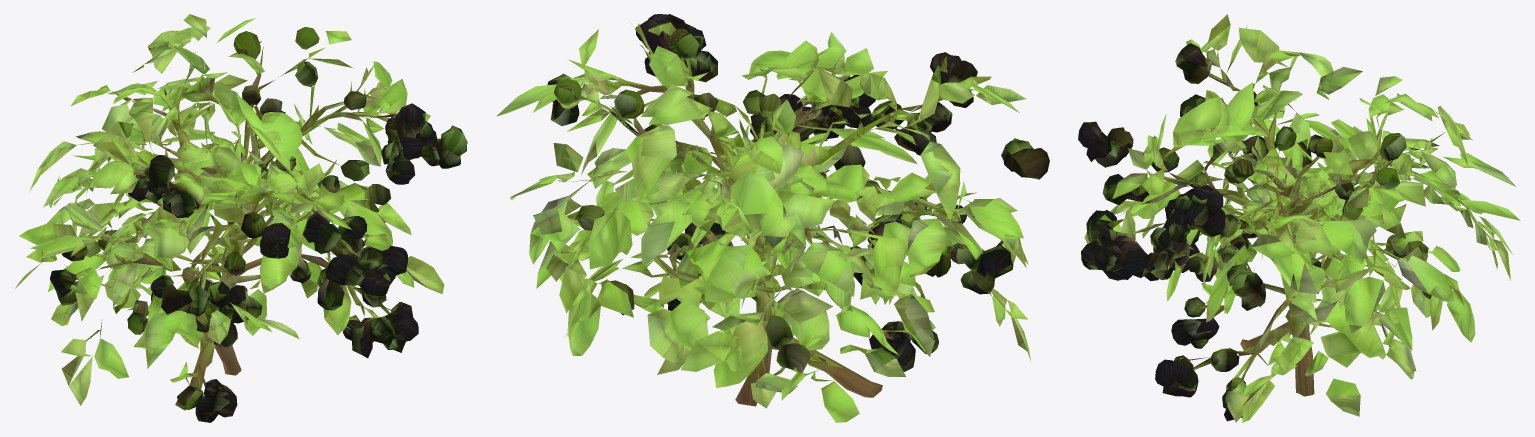
The model's file is prop-bramble.glb.
3 views of the same model, side by side, from view 1: azimuth 30°, elevation 25°; view 2: azimuth 150°, elevation 25°; view 3: azimuth 270°, elevation 25° (orthographic). The views are drawn at different scales.
Bounding box in the file's own units: 1.9 × 1.39 × 1.75.
1 material, 1 textured.
